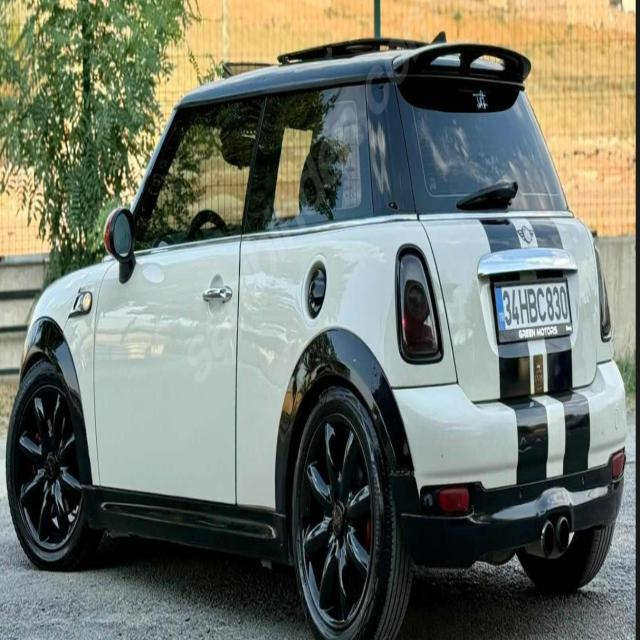mini: (516, 220, 539, 249)
